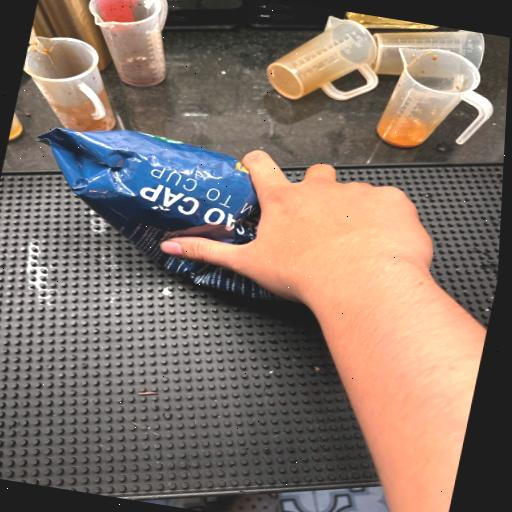cafe_hat: (38, 127, 274, 299)
